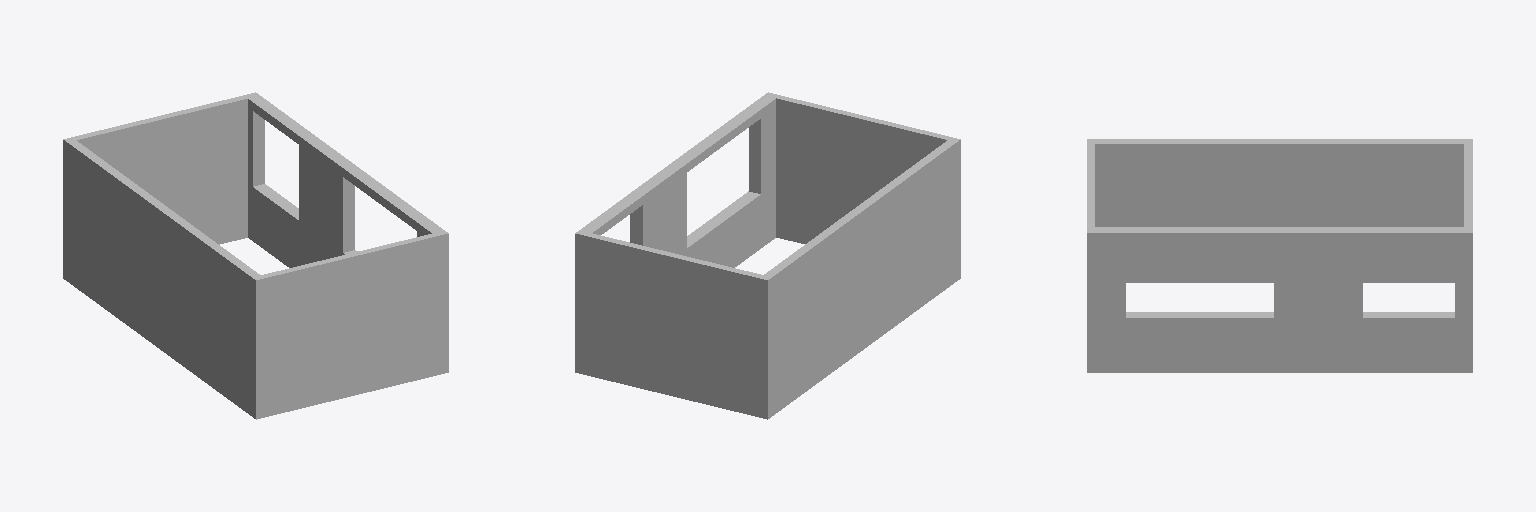
Rendered from Walls.obj.
3 renders of one model, left to right at view 1: azimuth 30°, elevation 25°; view 2: azimuth 150°, elevation 25°; view 3: azimuth 270°, elevation 25°, orthographic.
Visible parts, largest first — view 1: Cube_Cube.006; view 2: Cube_Cube.006; view 3: Cube_Cube.006.
Part boxes in pixels (left/top/right/bottom): Cube_Cube.006: left=63, top=92, right=448, bottom=419; Cube_Cube.006: left=575, top=92, right=960, bottom=419; Cube_Cube.006: left=1087, top=139, right=1472, bottom=372.
Size of the model in its own units: 18.74 by 12.93 by 32.46.